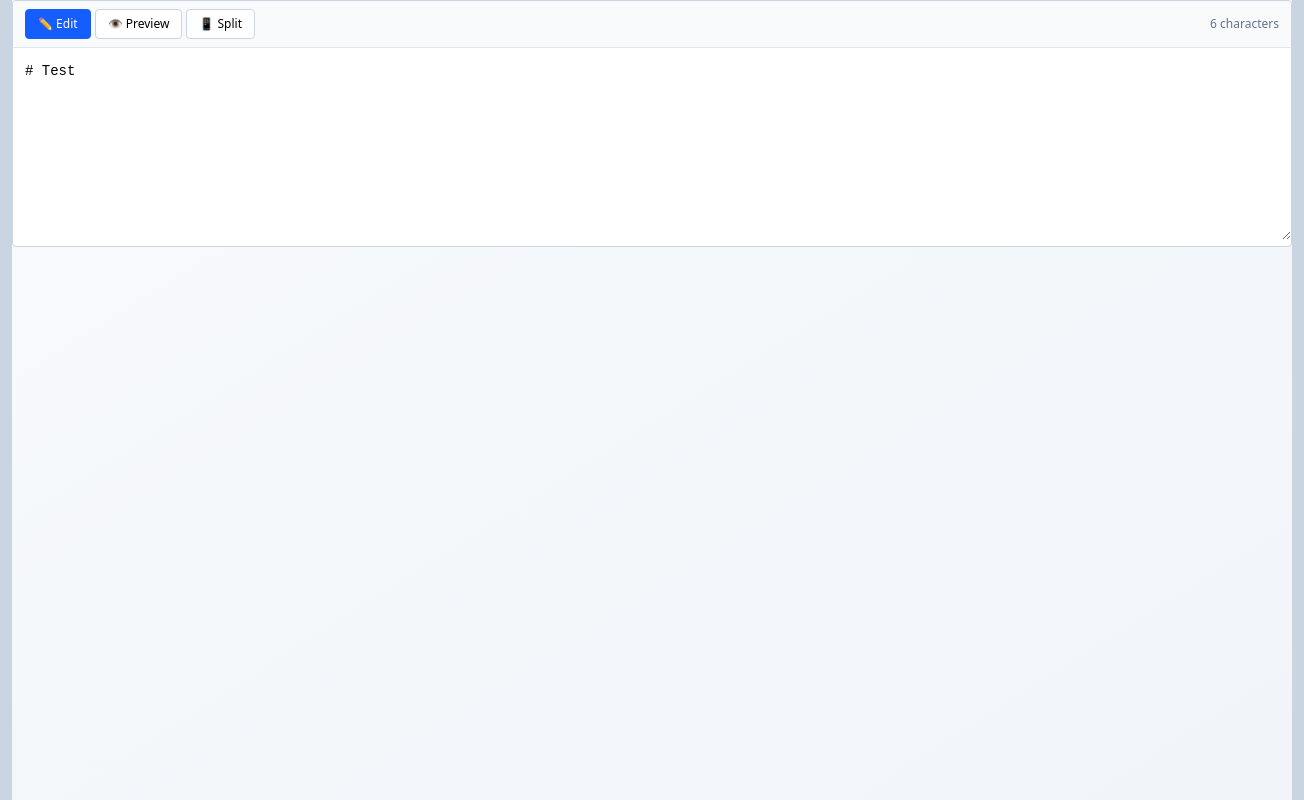
MemoEditor › switches to split view mode
Click the button with aria-label "Split view mode" at (221, 24), box [186,9,255,39]
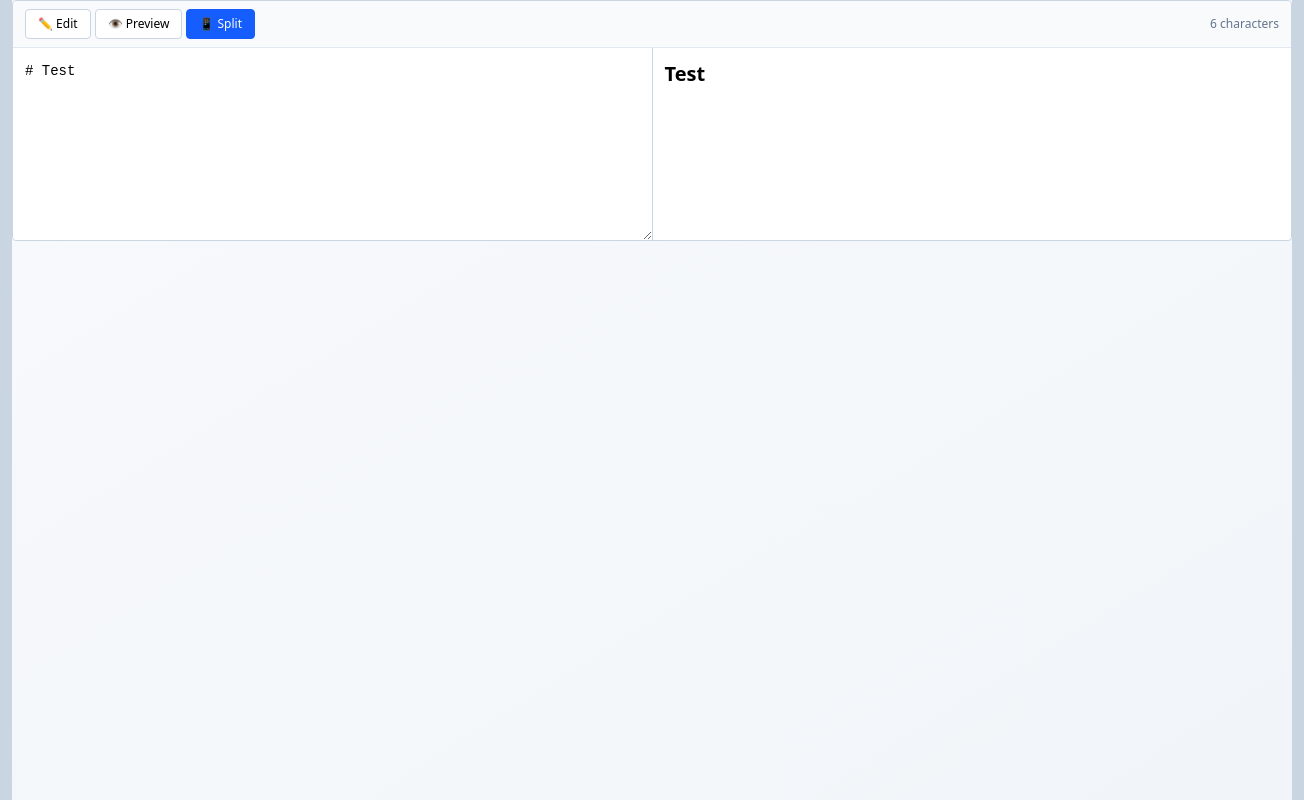
Check: the text box named "Memo editor" is shown, box [13,48,652,240]
Check: the element named "Memo preview" is shown, box [652,48,1291,240]
